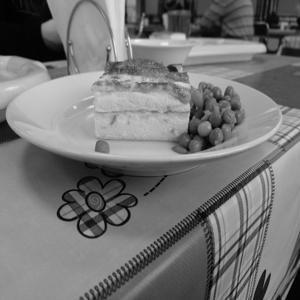casserole: (72, 44, 250, 156)
